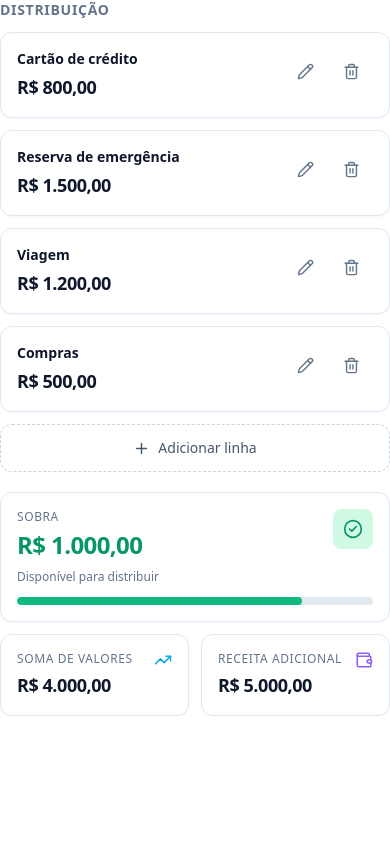
Test case: AdditionalIncomePlanner › edita uma linha e recalcula a sobra
This screenshot has width=390, height=844.
Click the button named "Editar Cartão de crédito" at coordinates (305, 71), box [283,49,327,93]
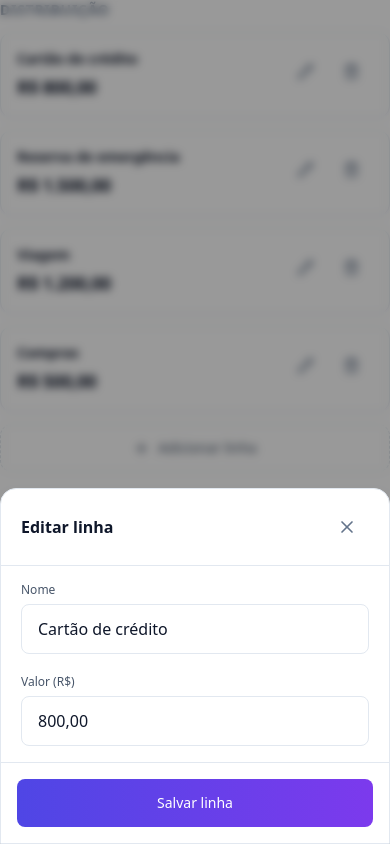
Replace the text in the field labelled "Valor (R$)" with "900,00" at coordinates (195, 721), box [21,696,369,746]
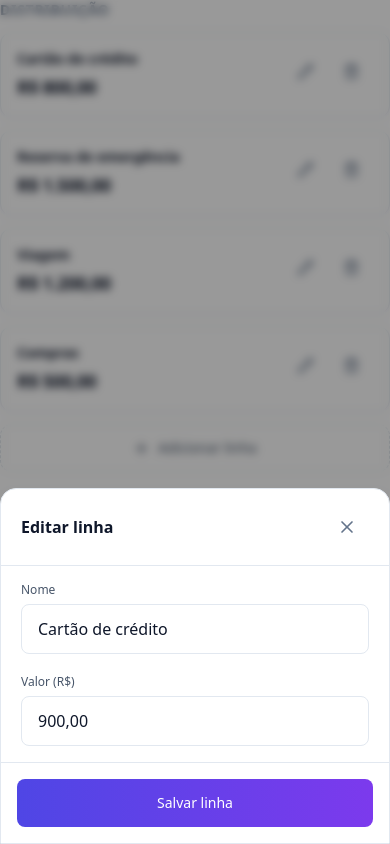
Click the button "Salvar linha" at coordinates (195, 803), box [17,779,373,827]
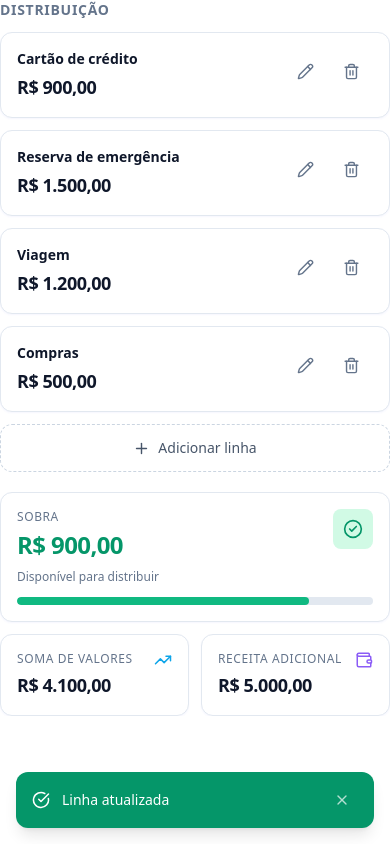
Expected: the text "R$ 900,00" below "Cartão de crédito" is shown, [17,75,96,99]
